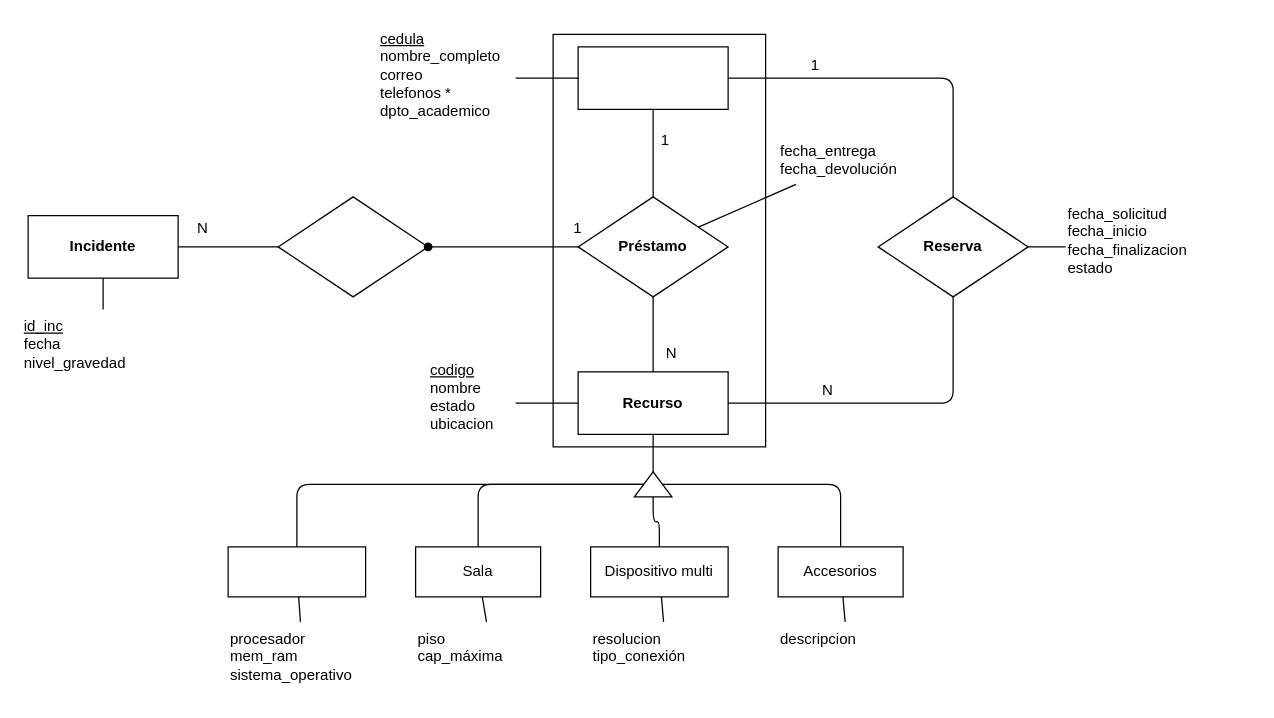
Image size: 1274x718. Some labels were removed from this diagram. The centre of each missing label's shape, as x and y in pixels:
"Docente" goes at pixel 652 77.
"Equipos Inform" goes at pixel 296 571.
"Genera" goes at pixel 352 246.
